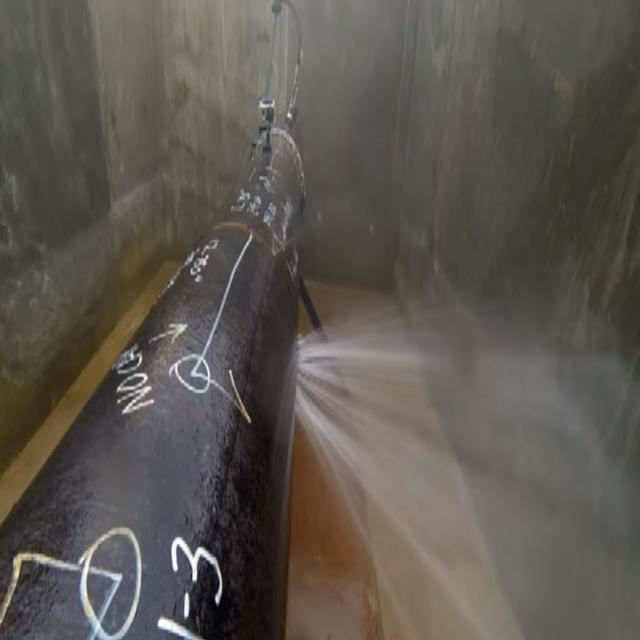leak: (296, 314, 640, 638)
